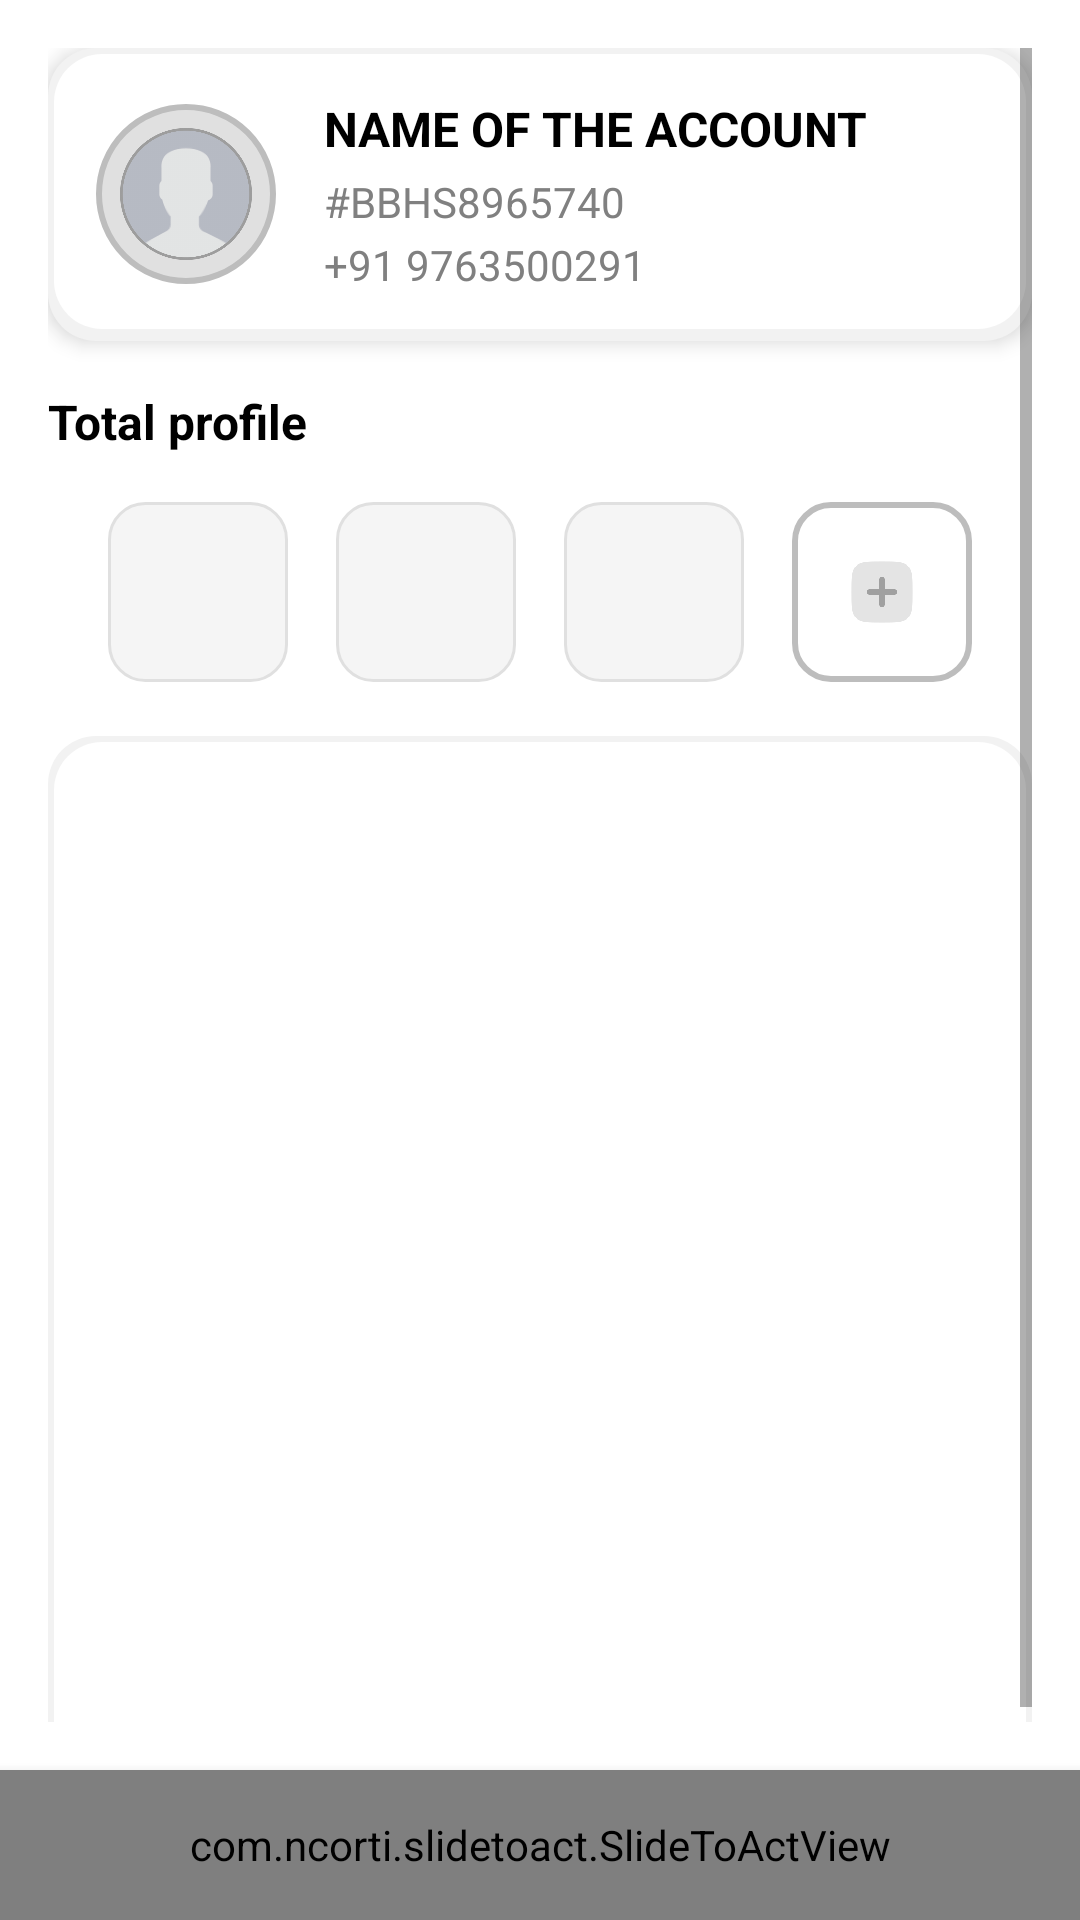

Icons on this 1080x1920 Android screen, each with its box as bbox=(x1, y1, x2, y2):
add: bbox=(852, 562, 912, 622)
man: bbox=(96, 104, 276, 284)
